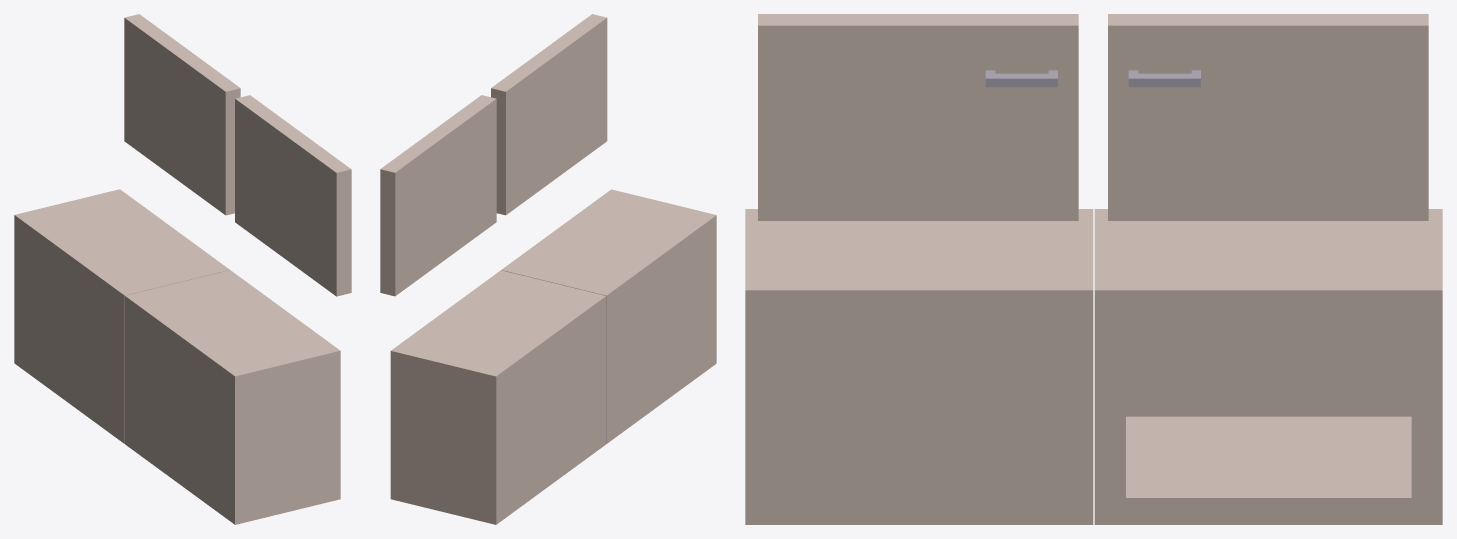
The model's file is VL_Shelf.fbx.
3 views of the same model, side by side, from view 1: azimuth 30°, elevation 25°; view 2: azimuth 150°, elevation 25°; view 3: azimuth 270°, elevation 25° (orthographic). The views are drawn at different scales.
Parts seen in each view (by area): view 1: Shelf_Fill, Shelf_Empty, Door_Left, Door_Right; view 2: Shelf_Empty, Shelf_Fill, Door_Right, Door_Left; view 3: Shelf_Empty, Shelf_Fill, Door_Left, Door_Right.
Boxes of the visible parts, <box> form: Shelf_Fill: <box>125,270,340,524</box>; Shelf_Empty: <box>14,189,229,443</box>; Door_Left: <box>235,95,351,296</box>; Door_Right: <box>124,14,240,215</box>; Shelf_Empty: <box>390,270,606,524</box>; Shelf_Fill: <box>501,189,716,443</box>; Door_Right: <box>380,95,496,296</box>; Door_Left: <box>491,14,607,215</box>; Shelf_Empty: <box>1094,209,1442,524</box>; Shelf_Fill: <box>745,209,1093,524</box>; Door_Left: <box>758,14,1078,220</box>; Door_Right: <box>1108,14,1428,220</box>.
Size of the model in its own units: 150 by 355 by 439.
